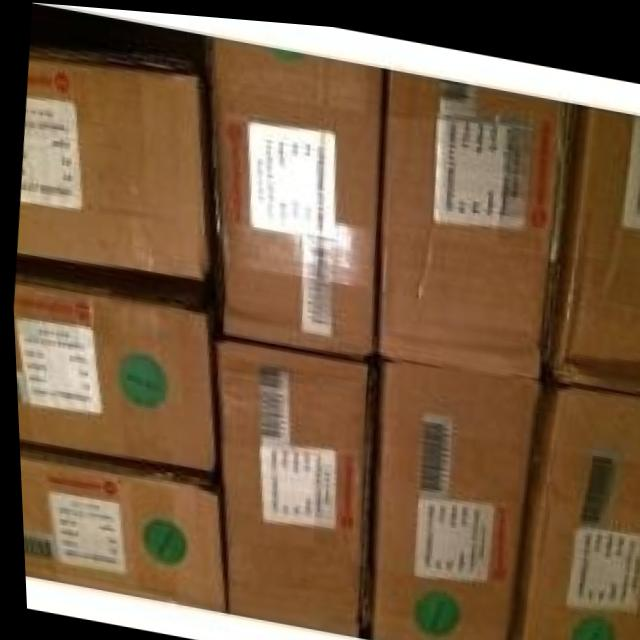box: (373, 62, 566, 373), (201, 36, 384, 352), (207, 331, 369, 635), (366, 355, 536, 640), (14, 37, 206, 274), (11, 261, 212, 468), (510, 367, 640, 640), (15, 444, 222, 611), (537, 95, 640, 382)
